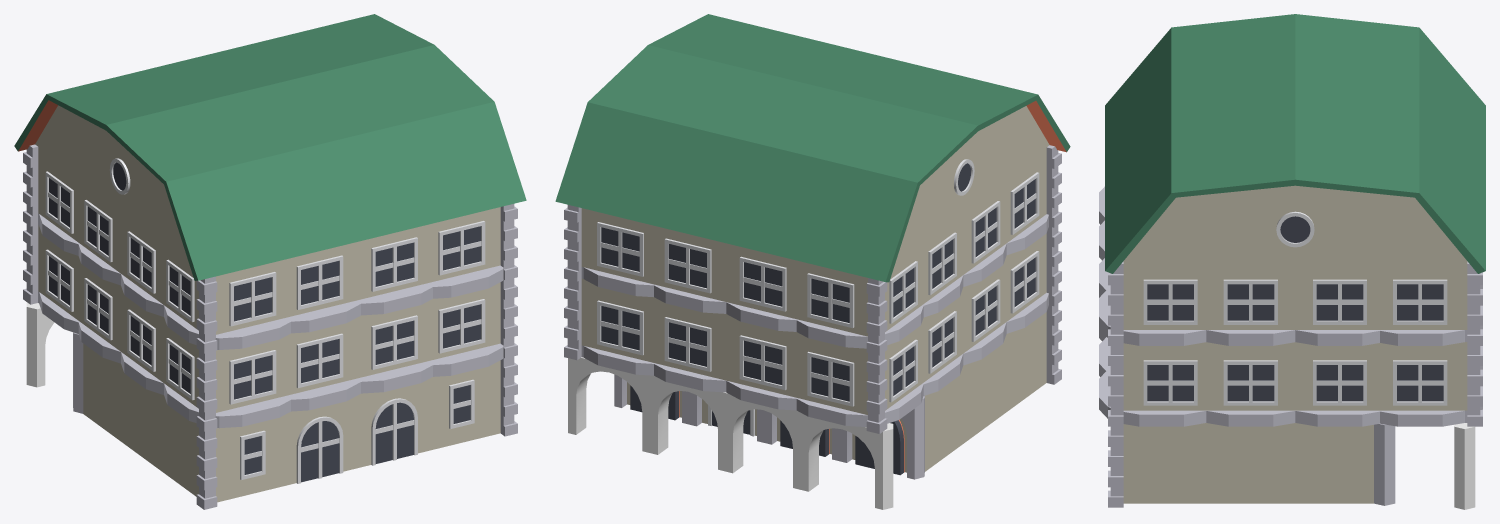
The model's file is Magasin.fbx.
3 views of the same model, side by side, from view 1: azimuth 30°, elevation 25°; view 2: azimuth 150°, elevation 25°; view 3: azimuth 270°, elevation 25° (orthographic). The views are drawn at different scales.
Parts seen in each view (by area): view 1: roof_barn_58, roof_barn_57, block_3, block_0, block_13, block_1, block_12, block_46, block_2, block_31, door_rounded_wide_124, door_rounded_wide_125 (+57 smaller); view 2: roof_barn_57, roof_barn_58, wall_archwaySingle_75, block_13, block_28, block_12, block_3, block_33, block_32, block_43, wall_archwaySingle_77, wall_archwaySingle_76 (+56 smaller); view 3: roof_barn_58, roof_barn_57, block_4, block_0, block_5, block_50, block_51, block_23, block_22, block_49, block_40, block_24 (+25 smaller).
Boxes of the visible parts, x1=… form: roof_barn_58: x1=106, y1=45, x2=526, y2=280; roof_barn_57: x1=14, y1=14, x2=434, y2=206; block_3: x1=164, y1=396, x2=281, y2=502; block_0: x1=431, y1=360, x2=500, y2=449; block_13: x1=121, y1=365, x2=164, y2=472; block_1: x1=356, y1=378, x2=431, y2=468; block_12: x1=83, y1=343, x2=121, y2=441; block_46: x1=164, y1=239, x2=281, y2=334; block_2: x1=282, y1=396, x2=356, y2=486; block_31: x1=164, y1=318, x2=281, y2=412; door_rounded_wide_124: x1=296, y1=416, x2=343, y2=483; door_rounded_wide_125: x1=371, y1=398, x2=417, y2=465; roof_barn_57: x1=555, y1=45, x2=977, y2=282; roof_barn_58: x1=648, y1=14, x2=1070, y2=208; wall_archwaySingle_75: x1=800, y1=413, x2=893, y2=509; block_13: x1=963, y1=335, x2=1006, y2=443; block_28: x1=801, y1=326, x2=919, y2=414; block_12: x1=852, y1=367, x2=962, y2=472; block_3: x1=1006, y1=312, x2=1046, y2=411; block_33: x1=651, y1=297, x2=726, y2=380; block_32: x1=726, y1=314, x2=801, y2=398; block_43: x1=801, y1=240, x2=919, y2=336; wall_archwaySingle_77: x1=568, y1=357, x2=650, y2=452; wall_archwaySingle_76: x1=650, y1=375, x2=725, y2=471; roof_barn_58: x1=1105, y1=14, x2=1295, y2=273; roof_barn_57: x1=1295, y1=14, x2=1485, y2=273; block_4: x1=1206, y1=423, x2=1295, y2=503; block_0: x1=1123, y1=423, x2=1206, y2=503; block_5: x1=1295, y1=423, x2=1373, y2=503; block_50: x1=1206, y1=261, x2=1295, y2=329; block_51: x1=1295, y1=261, x2=1384, y2=329; block_23: x1=1206, y1=342, x2=1295, y2=410; block_22: x1=1295, y1=342, x2=1384, y2=410; block_49: x1=1123, y1=261, x2=1206, y2=329; block_40: x1=1384, y1=261, x2=1467, y2=341; block_24: x1=1123, y1=342, x2=1206, y2=410.
Size of the model in its own units: 44 by 41.03 by 43.39.
